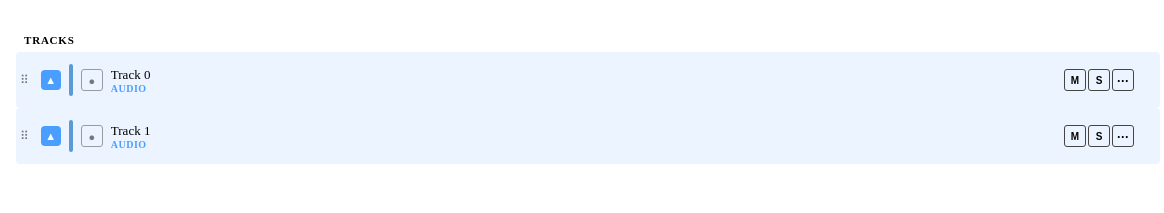
Test: TrackHeaders › right-clicking a row opens a menu with Add/Duplicate/Delete Track
The image size is (1164, 213).
Right-click the element with class "th-row" showing "⠿ ▲ ● Track 1 AUDIO M S ⋯" at [588, 136], box 16,108 -> 1160,164
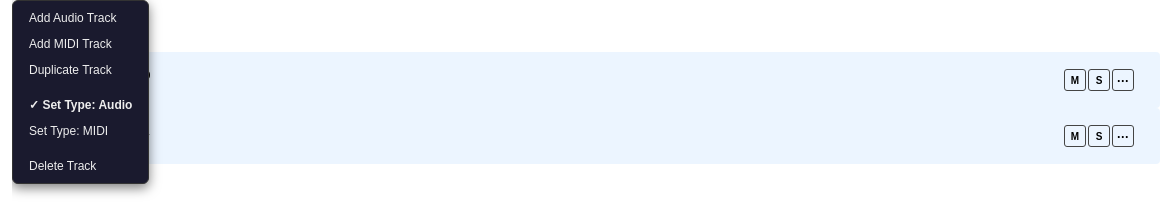
Expected: the button "Add Audio Track" is shown, 13,5 -> 148,31
Expected: the button "Add MIDI Track" is shown, 13,31 -> 148,57
Expected: the button "Duplicate Track" is shown, 13,57 -> 148,83
